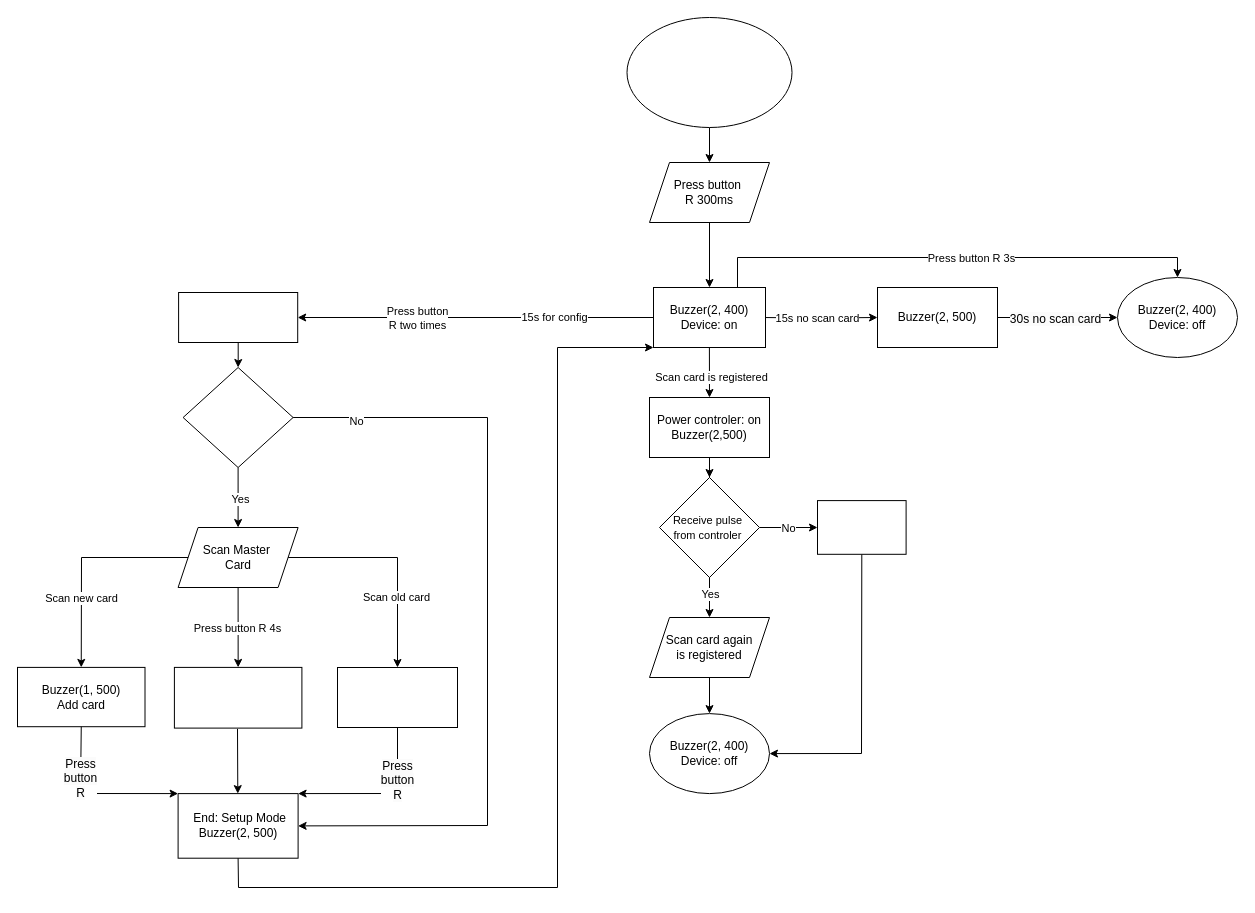
This 1255x913 diagram has some shape labels left out. Each missing label, with the centre of its shape:
Begin SPI & RFID Initialization Configure Pin Modes: [709,72]
Buzzer(2, 500) Delete card: [397,697]
Buzzer(3, 500) Delete all card: [237,697]
Over 10s: [861,527]
Start: SetupMode Buzzer(3, 300): [238,317]
Within 30s Doing nothing: [237,417]
